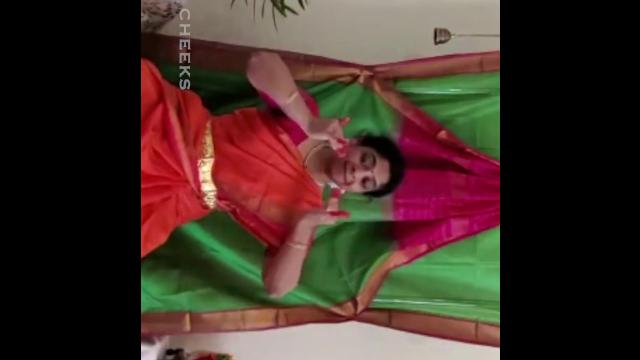mrighasheesh: (283, 181, 375, 237), (294, 105, 362, 162)
